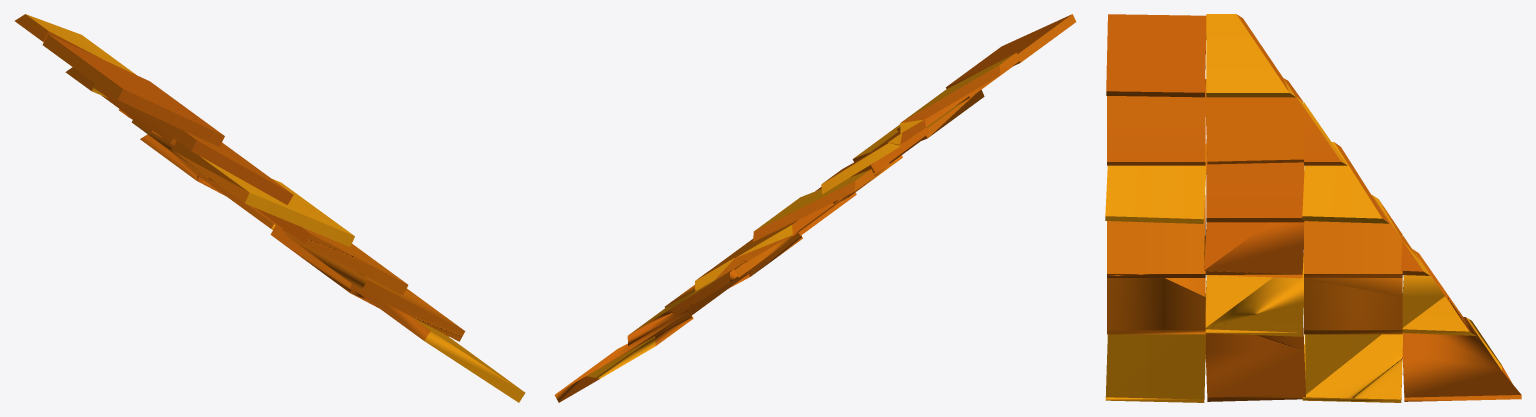
The model's file is roof wood 2.fbx.
3 views of the same model, side by side, from view 1: azimuth 30°, elevation 25°; view 2: azimuth 150°, elevation 25°; view 3: azimuth 270°, elevation 25° (orthographic). The views are drawn at different scales.
Parts seen in each view (by area): view 1: roof_wood_2; view 2: roof_wood_2; view 3: roof_wood_2.
Boxes of the visible parts, x1,y1,x2,y2 form: roof_wood_2: (15,14,525,402); roof_wood_2: (554,14,1076,402); roof_wood_2: (1105,14,1521,402).
Size of the model in its own units: 202 by 194 by 275.
Materials: 1 (1 with a texture image).
